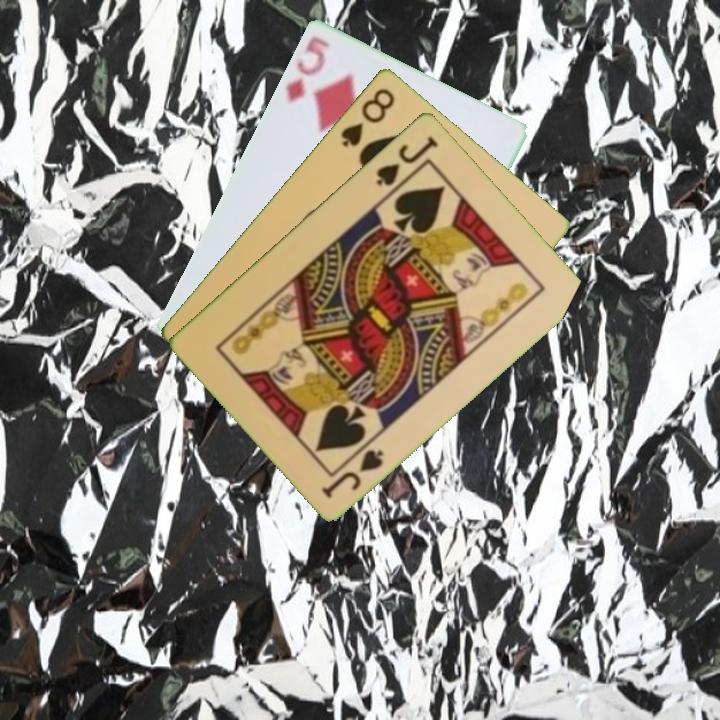5d: (281, 32, 333, 105)
8s: (337, 83, 398, 150)
Js: (372, 131, 441, 189), (318, 445, 387, 501)
